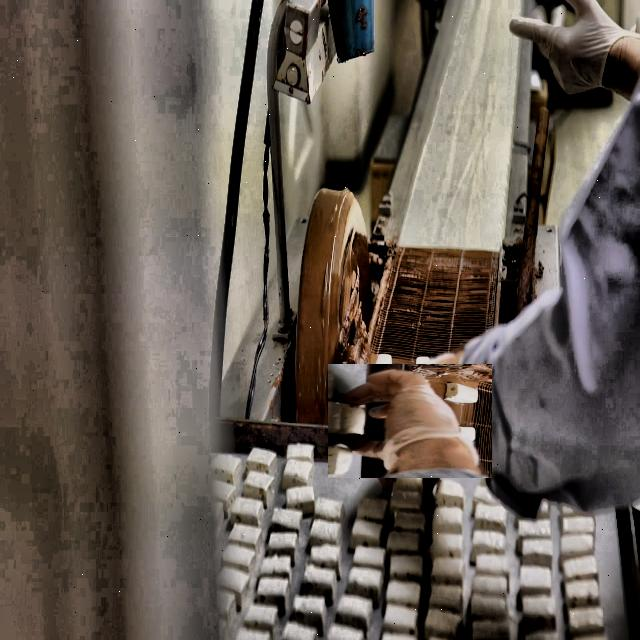gloved: (340, 352, 480, 492)
